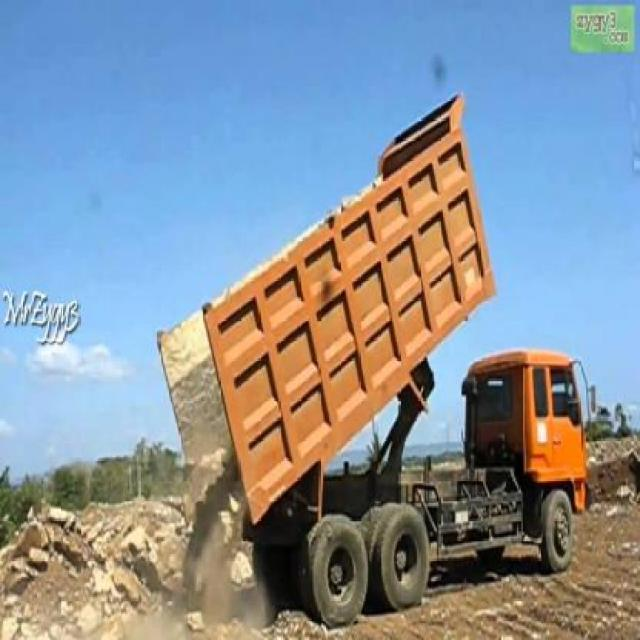truck: (160, 94, 589, 640)
